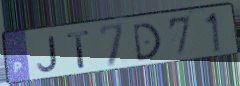1: (204, 11, 223, 54)
7: (97, 22, 126, 70), (167, 14, 193, 59)
D: (131, 21, 163, 64)
J: (35, 34, 60, 74)
T: (65, 29, 93, 71)
